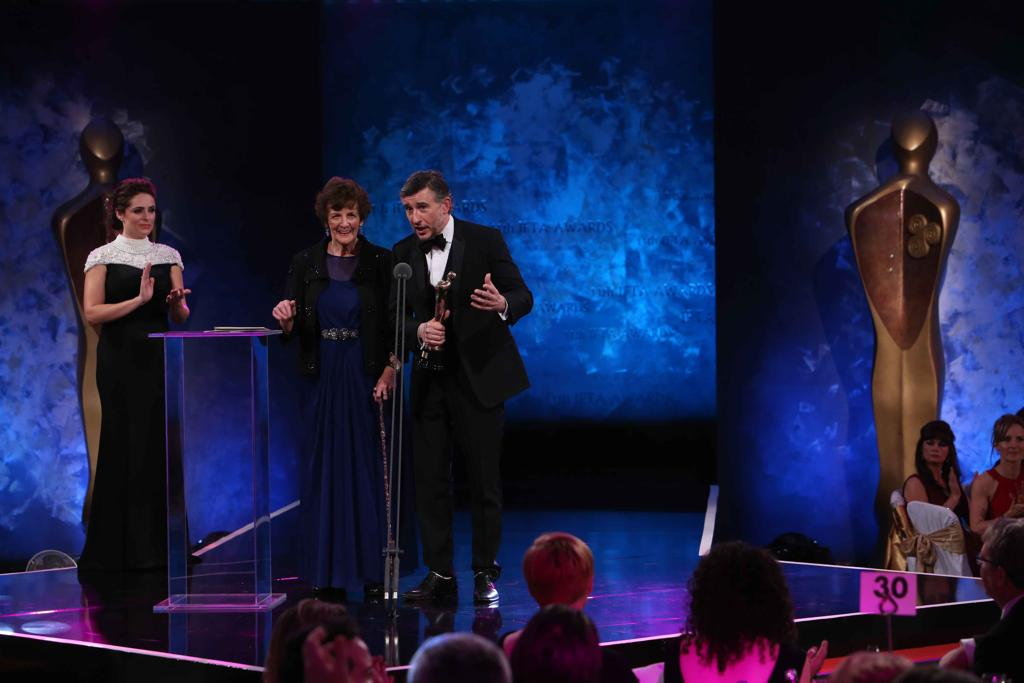face: (401, 187, 441, 240), (975, 541, 1006, 595), (123, 193, 155, 235), (327, 206, 360, 244), (1000, 422, 1024, 461), (924, 435, 948, 462)
